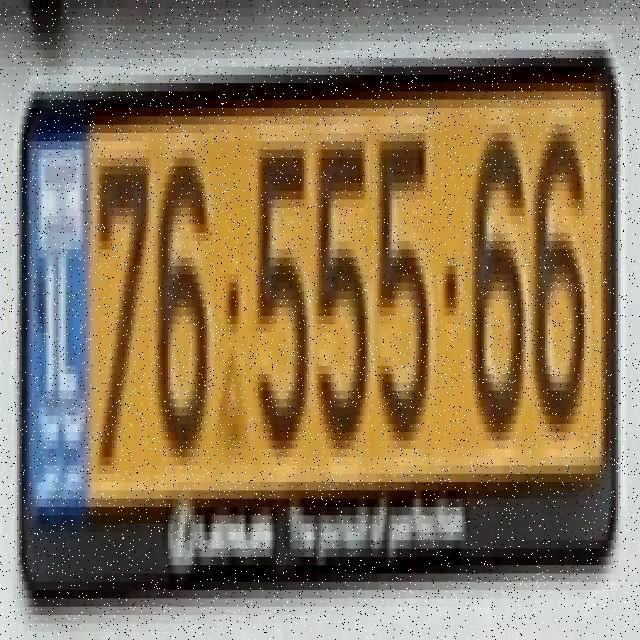LicensePlate: (6, 23, 624, 602)
